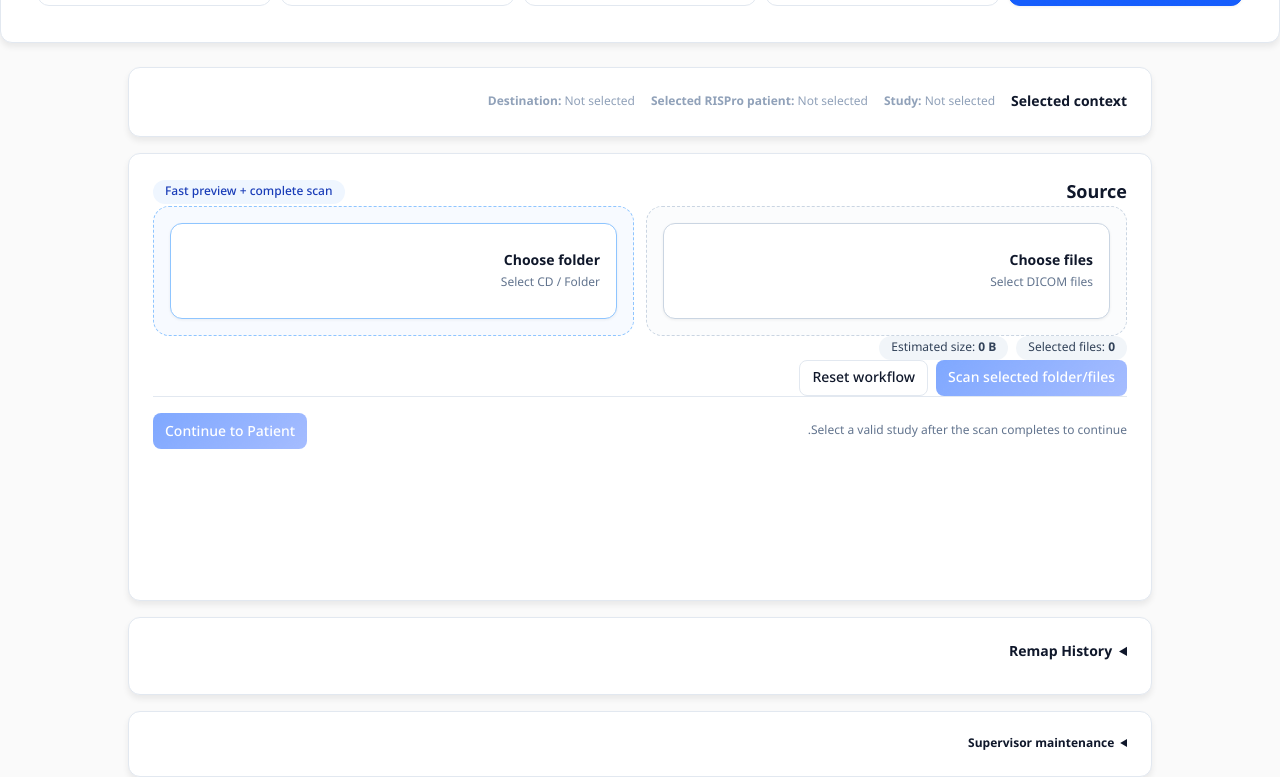
Test: PacsRemapPage five-step wizard › keeps Source available when multiple awaiting-confirmation drafts require explicit Recent Jobs selection
This screenshot has width=1280, height=777.
(page scrolled)
Check: the heading "Source" is shown, box [1066, 178, 1127, 206]
Check: the file field labelled "Select DICOM files" is enabled, box [663, 223, 1110, 319]
Click the heading "Remap History" at (1060, 652), box [1009, 637, 1112, 666]
(page scrolled)
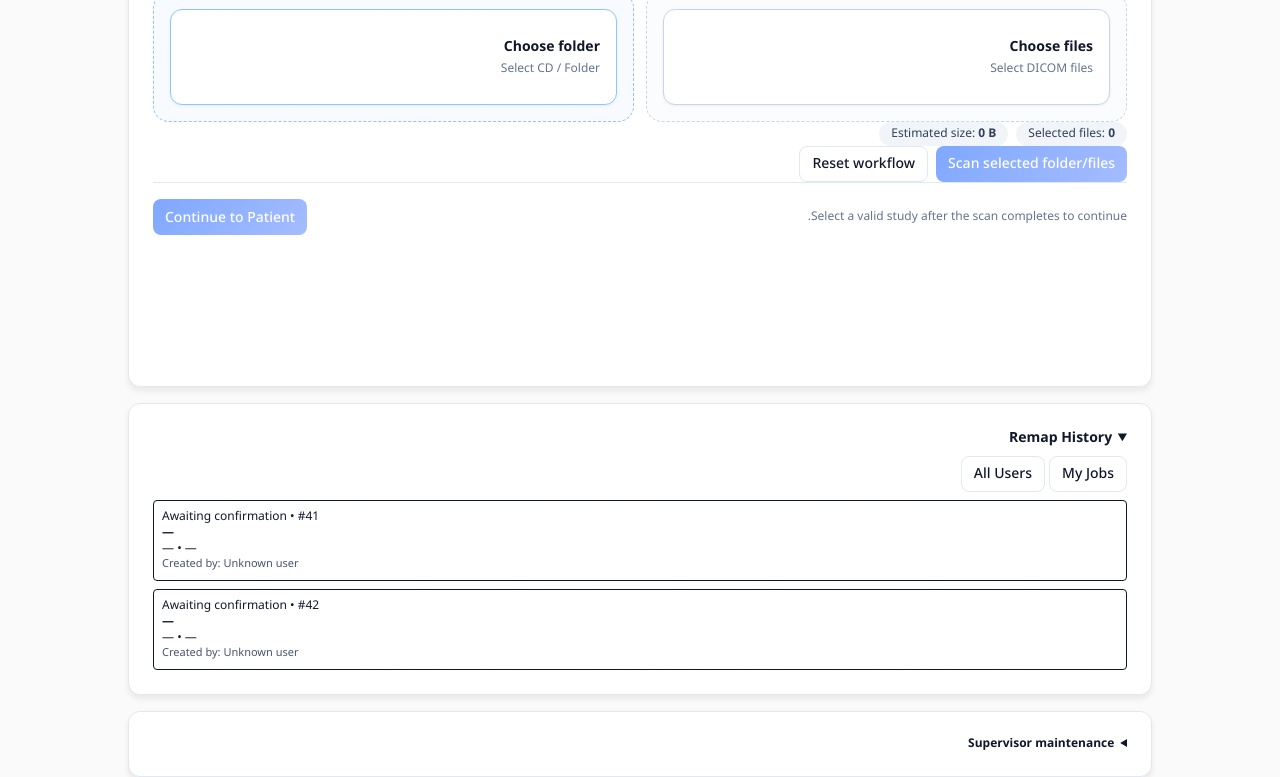
Check: the button "#41 • Awaiting confirmation — — • — Created by: Unknown user" is shown, box [162, 509, 1118, 572]
Check: the button "#42 • Awaiting confirmation — — • — Created by: Unknown user" is shown, box [162, 598, 1118, 661]
